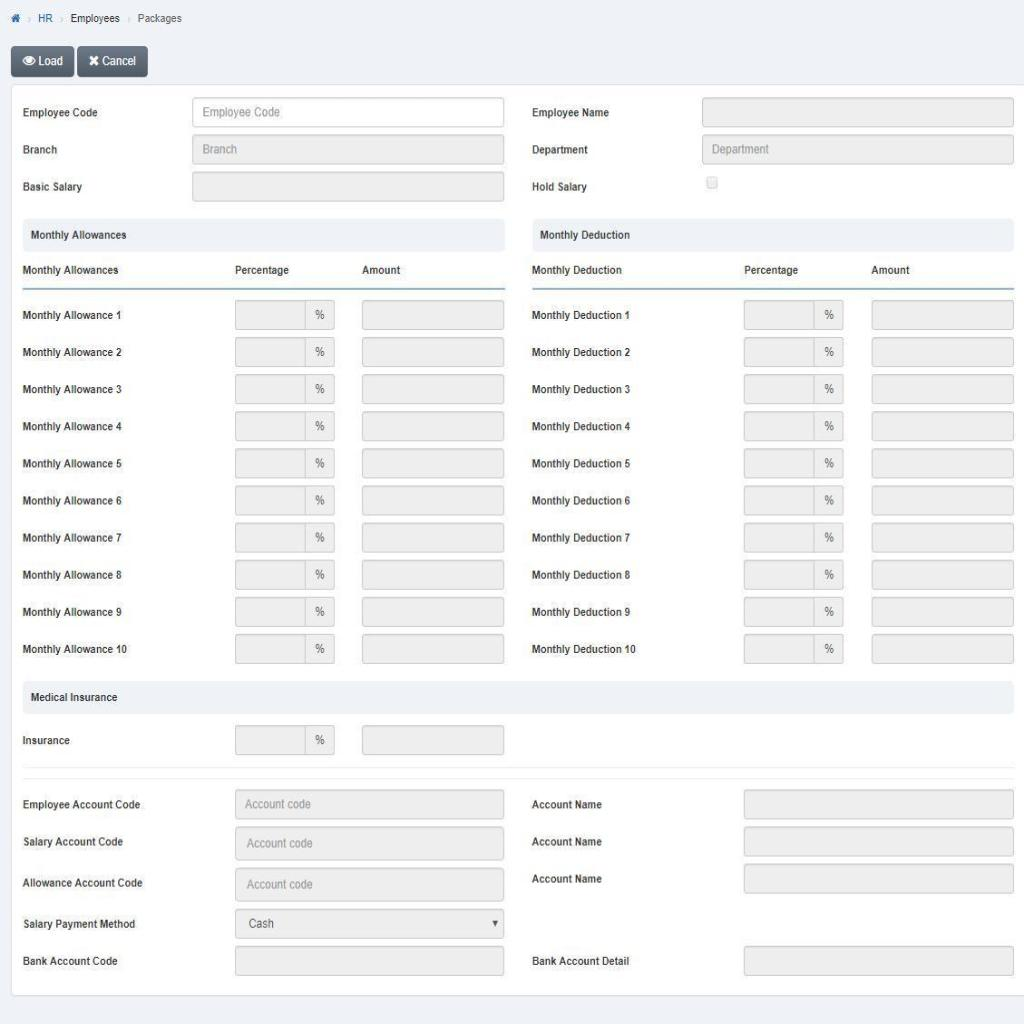button: (78, 45, 148, 76), (12, 45, 75, 77)
checkbox: (706, 174, 718, 186)
dropdown: (236, 908, 502, 940)
input: (192, 168, 504, 204), (702, 132, 1013, 164), (195, 134, 502, 166), (234, 826, 503, 862), (235, 868, 503, 904), (190, 98, 502, 128), (703, 96, 1014, 126), (742, 864, 1012, 894), (236, 790, 503, 820), (236, 946, 502, 976), (744, 790, 1014, 818), (744, 828, 1012, 856), (744, 947, 1014, 974), (363, 299, 504, 333), (871, 597, 1015, 629), (361, 558, 502, 590), (871, 372, 1015, 403), (362, 597, 503, 628), (870, 522, 1013, 552), (361, 635, 503, 665), (361, 727, 503, 757), (363, 448, 503, 478), (873, 484, 1013, 514), (364, 412, 503, 442), (871, 301, 1014, 330), (871, 635, 1014, 664), (871, 450, 1015, 478), (870, 560, 1014, 588), (870, 337, 1012, 365), (363, 337, 504, 365), (871, 411, 1012, 439), (362, 375, 502, 403), (363, 486, 503, 514), (363, 522, 503, 550), (231, 297, 304, 331), (743, 522, 814, 554), (743, 558, 814, 590), (741, 335, 814, 366), (234, 446, 302, 478), (236, 634, 304, 666), (744, 595, 812, 627), (234, 522, 306, 552), (234, 560, 306, 590), (233, 336, 306, 365), (235, 724, 305, 754), (744, 300, 815, 329), (233, 374, 306, 402), (743, 411, 813, 440), (743, 634, 813, 662), (236, 411, 305, 439), (746, 375, 812, 404), (235, 598, 303, 626), (744, 486, 812, 514), (234, 488, 306, 514), (744, 450, 814, 476)
label: (21, 342, 125, 365), (19, 416, 126, 438), (18, 796, 146, 814), (527, 344, 634, 365), (18, 566, 124, 586), (16, 100, 104, 124), (17, 834, 127, 852), (20, 456, 129, 474), (26, 226, 132, 244), (19, 492, 125, 510), (528, 454, 634, 472), (22, 602, 122, 621), (20, 528, 123, 546), (528, 640, 637, 657), (21, 307, 125, 324), (527, 381, 637, 397), (530, 306, 632, 323), (21, 381, 129, 397), (537, 226, 632, 244), (18, 642, 130, 657), (530, 492, 632, 508), (22, 264, 122, 280), (528, 955, 630, 970), (528, 605, 634, 619), (529, 420, 634, 434), (21, 878, 142, 890), (21, 918, 140, 930), (531, 796, 602, 816), (529, 530, 630, 544), (530, 566, 631, 580), (531, 264, 625, 278), (529, 106, 610, 122), (32, 690, 118, 704), (18, 957, 120, 968), (530, 834, 606, 848), (529, 144, 592, 160), (528, 178, 591, 194), (740, 262, 803, 278), (234, 261, 291, 278), (20, 180, 85, 194), (17, 732, 73, 747), (361, 262, 406, 280), (20, 140, 60, 160), (528, 874, 606, 884), (869, 263, 913, 279)
